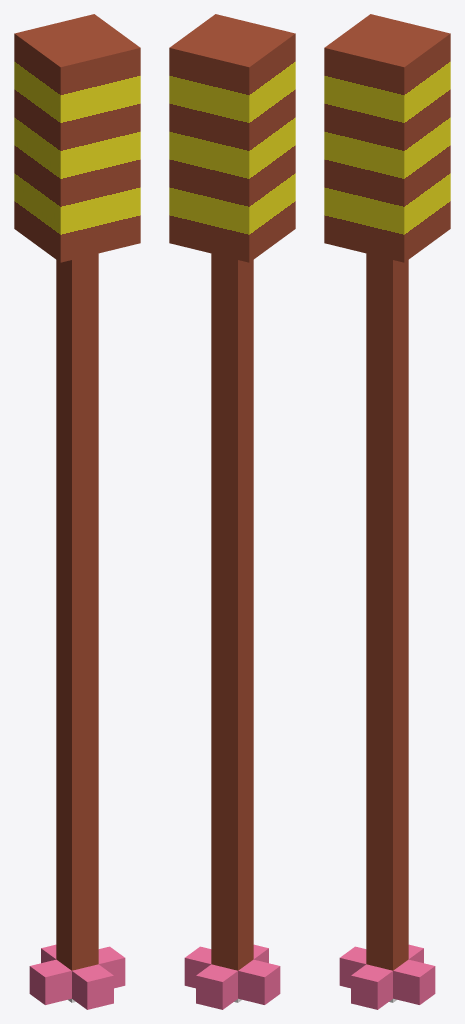
File: lance-1.gltf
The picture shows the model from 3 angles, left to right: view 1: azimuth 30°, elevation 25°; view 2: azimuth 150°, elevation 25°; view 3: azimuth 330°, elevation 25°; orthographic projection.
Parts seen in each view (by area): view 1: lance-Local, torche-Local, flower-Local; view 2: lance-Local, torche-Local, flower-Local; view 3: lance-Local, torche-Local, flower-Local.
Boxes of the visible parts, bbox=[...] form: lance-Local: bbox=[56, 253, 98, 970]; torche-Local: bbox=[14, 14, 140, 262]; flower-Local: bbox=[29, 944, 125, 1009]; lance-Local: bbox=[211, 253, 253, 970]; torche-Local: bbox=[169, 14, 295, 262]; flower-Local: bbox=[184, 944, 280, 1009]; lance-Local: bbox=[366, 253, 408, 970]; torche-Local: bbox=[324, 14, 450, 262]; flower-Local: bbox=[339, 944, 435, 1009].
Size of the model in its own units: 3 by 34.15 by 3.
Materials: 4 (4 with a texture image).
